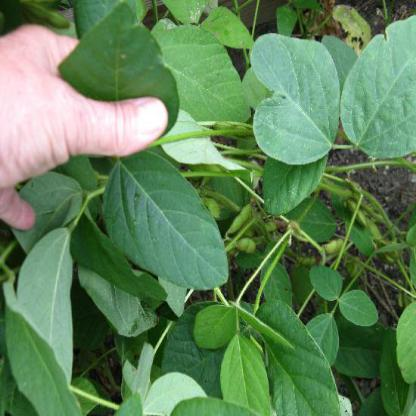soybean leaf: (101, 150, 228, 291), (249, 31, 340, 165), (142, 14, 251, 123), (250, 298, 343, 415), (340, 15, 415, 160), (15, 226, 72, 412), (218, 329, 269, 415), (193, 305, 236, 349)
